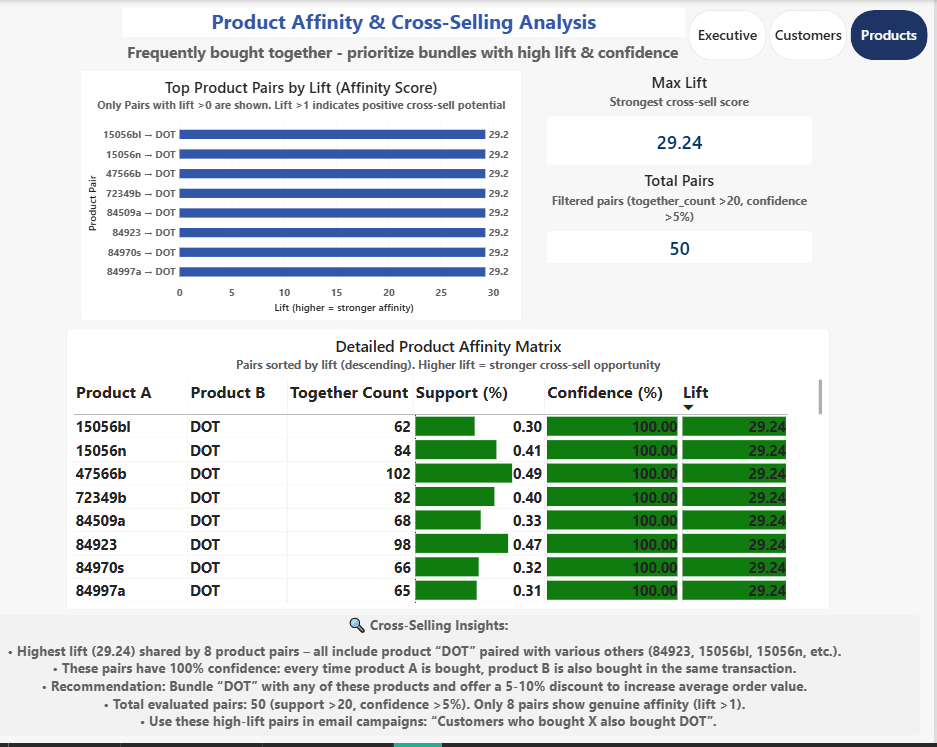

Layout of this report page (visuals, bound fields, positions):
{"tool":"powerbi","page":{"name":"Products","canvas":[2400,1777],"ordinal":2},"visuals":[{"type":"textbox","box":[459,18,1344,70],"z":0},{"type":"textbox","box":[459,98,1339,55],"z":1000},{"type":"clusteredBarChart","title":"Top Product Pairs by Lift (Affinity Score)","fields":{"Category":["mv_product_affinity.Product Pair"],"Y":["mv_product_affinity.Lift Value"]},"box":[360,168,1056,600],"z":2000},{"type":"cardVisual","title":"Max Lift","fields":{"Data":["mv_product_affinity.Max Lift"]},"box":[1472,169.6,636,225],"z":3000},{"type":"cardVisual","title":"Total Pairs","fields":{"Data":["mv_product_affinity.Total Pairs"]},"box":[1472,407,636,225],"z":4000},{"type":"tableEx","title":"Detailed Product Affinity Matrix ","fields":{"Values":["mv_product_affinity.product_a","mv_product_affinity.product_b","mv_product_affinity.together_count","mv_product_affinity.support_pct","mv_product_affinity.confidence_pct","mv_product_affinity.lift"]},"box":[327.1,785.6,1824,672],"z":5000},{"type":"textbox","box":[15.1,1470.6,2352,288],"z":6000},{"type":"pageNavigator","box":[1814,24,571,120],"z":7000}]}

Visuals, with their boxes on the page's 2400x1777 design canvas (x1, y1, x2, y2). These are canvas units, not pixel positions in the 937x747 screenshot, which may show the page scaled, cropped or inside an application window:
textbox: left=459, top=18, right=1803, bottom=88
textbox: left=459, top=98, right=1798, bottom=153
"Top Product Pairs by Lift (Affinity Score)" clusteredBarChart: left=360, top=168, right=1416, bottom=768
"Max Lift" cardVisual: left=1472, top=170, right=2108, bottom=395
"Total Pairs" cardVisual: left=1472, top=407, right=2108, bottom=632
"Detailed Product Affinity Matrix " tableEx: left=327, top=786, right=2151, bottom=1458
textbox: left=15, top=1471, right=2367, bottom=1759
pageNavigator: left=1814, top=24, right=2385, bottom=144
